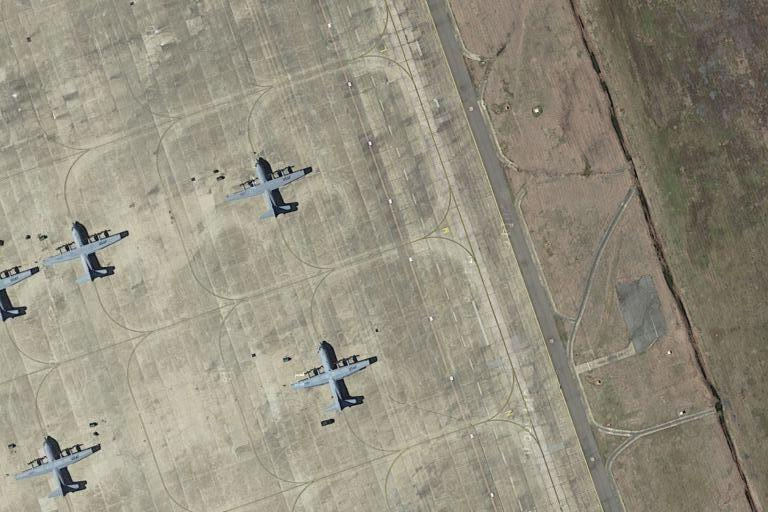C-130: (291, 344, 379, 421), (15, 432, 107, 503), (44, 219, 132, 288), (227, 156, 313, 225)
